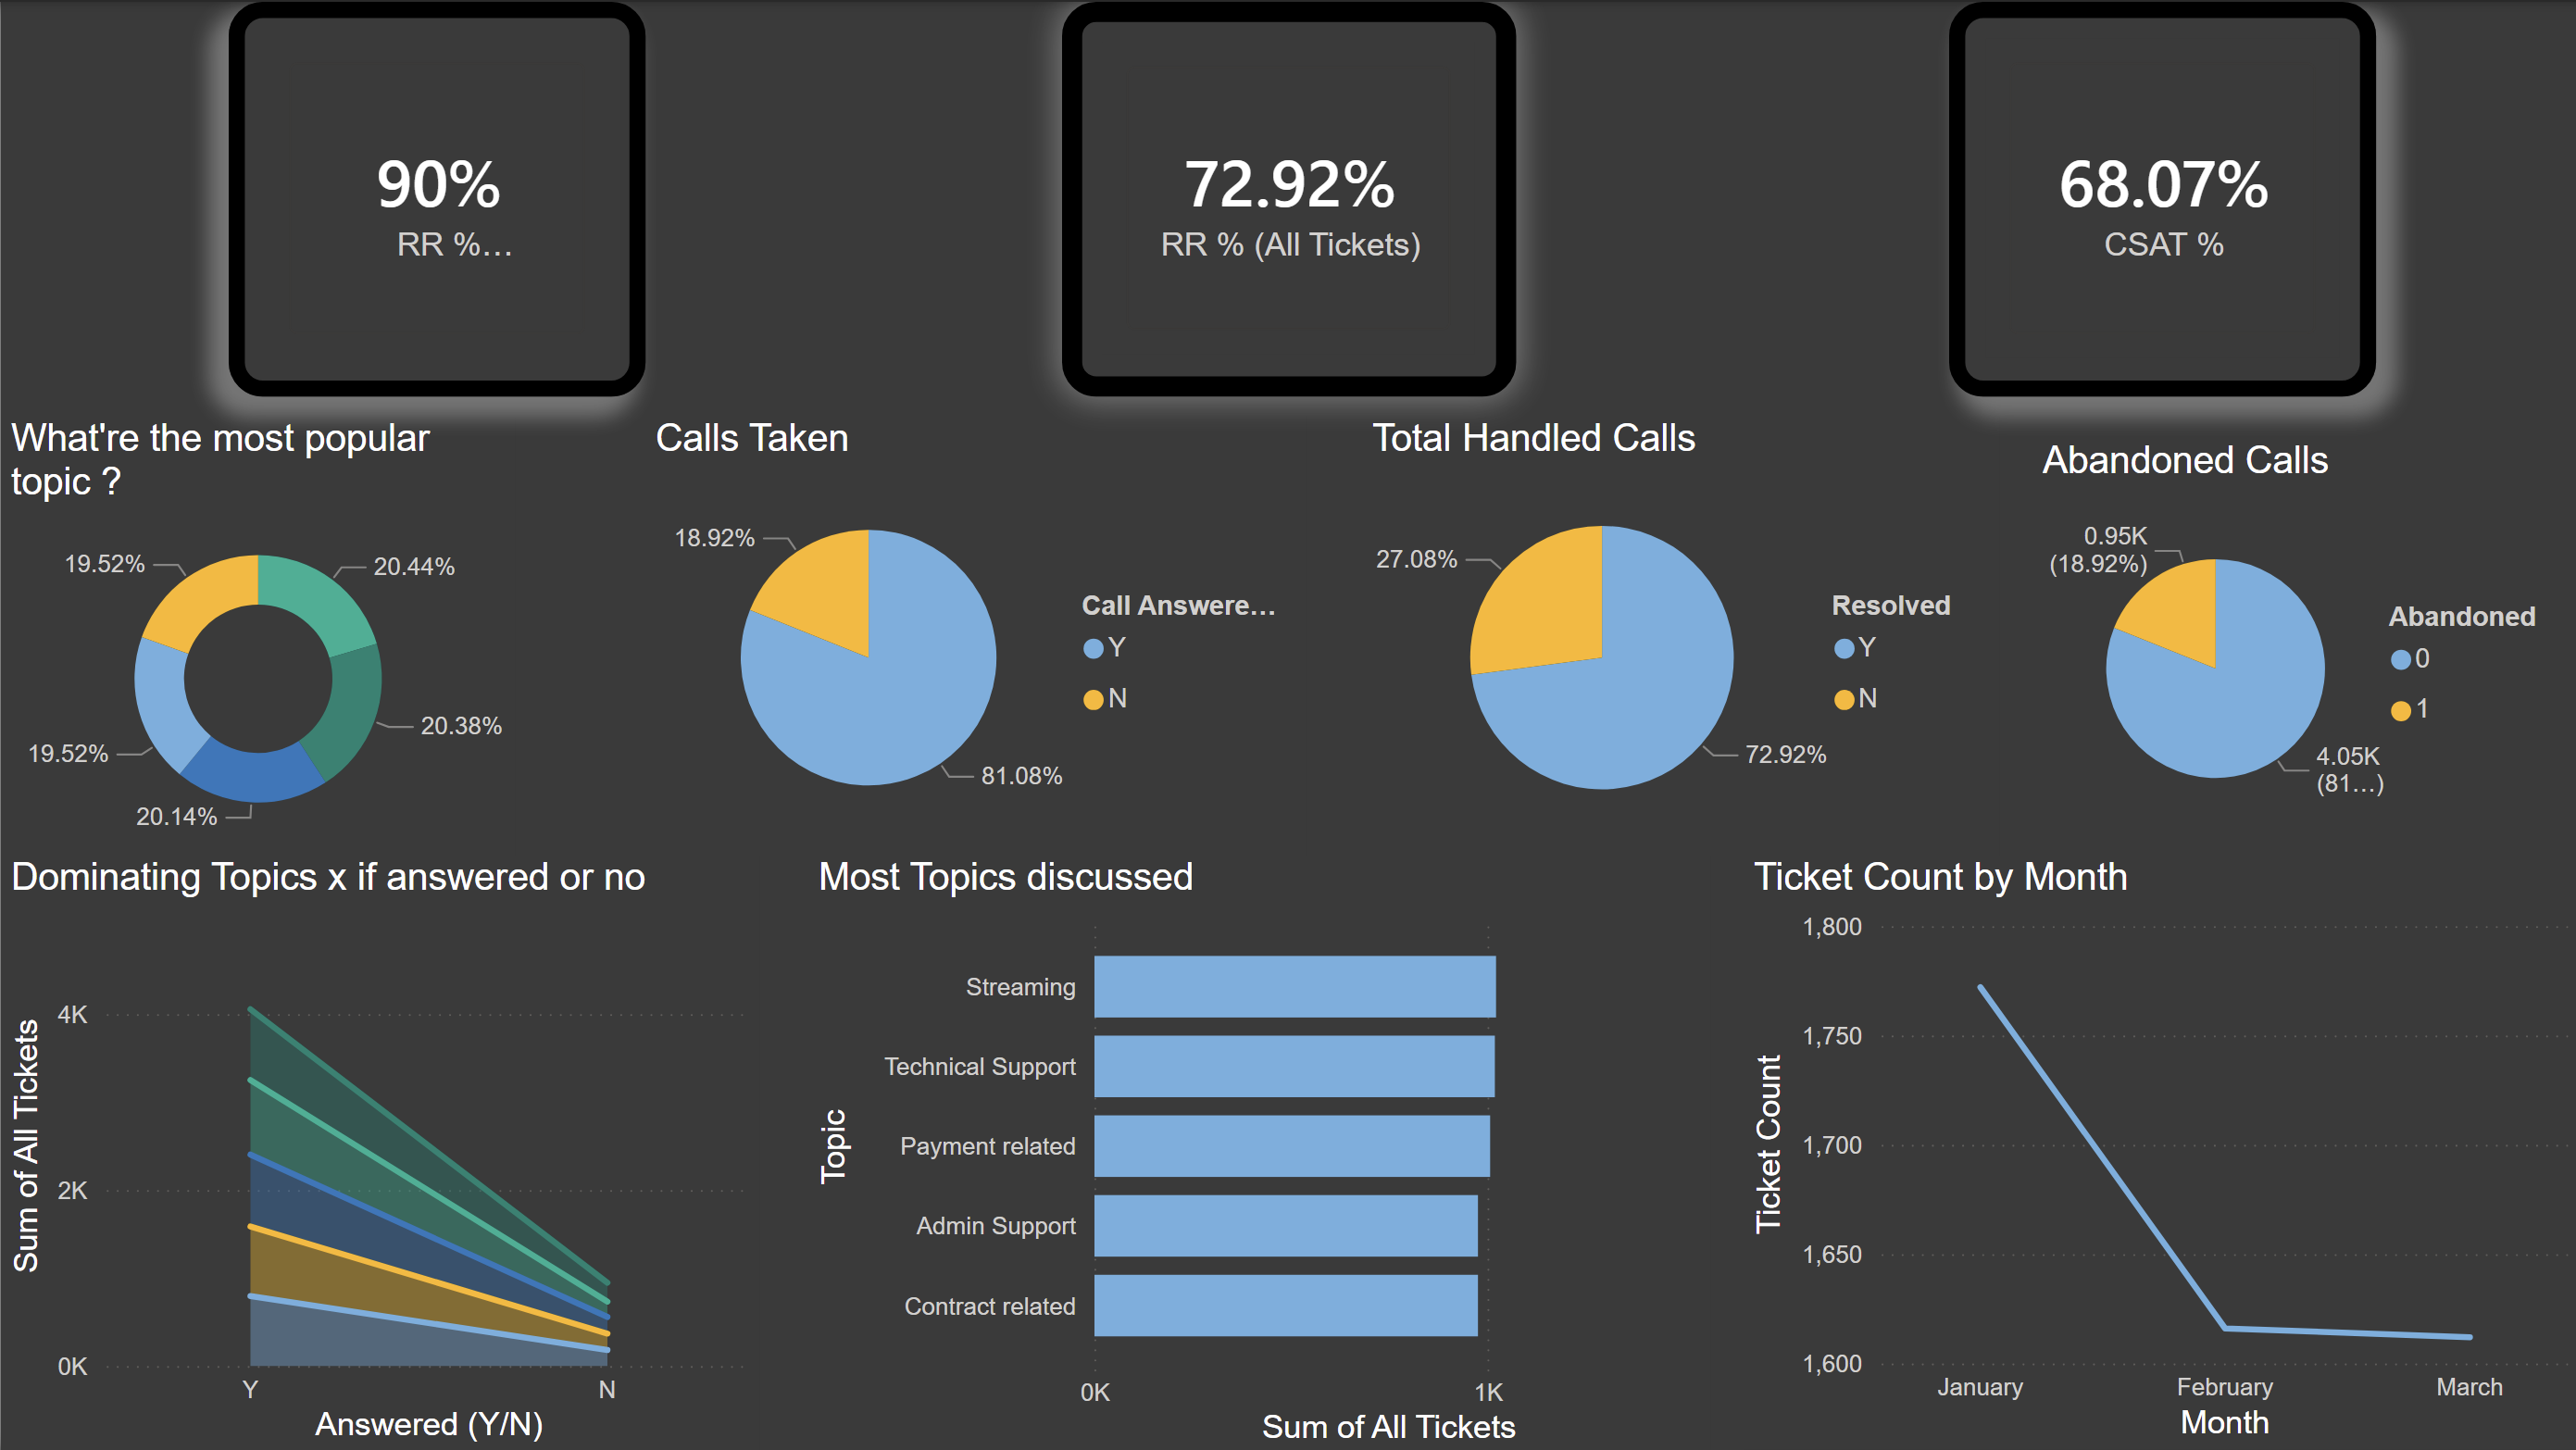

The dashboard page shown, as its layout file describes it:
{"tool":"powerbi","page":{"name":"Page 1","canvas":[1280,720],"ordinal":0},"visuals":[{"type":"pieChart","title":"Calls Taken","fields":{"Y":["CountNonNull(Raw.Answered (Y/N))"],"Category":["Raw.Answered (Y/N)"]},"box":[320,205.9,328.7,218.3],"z":0},{"type":"pieChart","title":"Total Handled Calls","fields":{"Category":["Raw.Resolved"],"Y":["CountNonNull(Raw.Resolved)"]},"box":[676,205.9,316.3,218.3],"z":1000},{"type":"donutChart","title":"What''re the most popular topic ?","fields":{"Y":["CountNonNull(Raw.Topic)"],"Category":["Raw.Topic"]},"box":[0,205.9,255.5,218.3],"z":3000},{"type":"lineChart","fields":{"Category":["Sheet1 (2).Date.Variation.Date Hierarchy.Year","Sheet1 (2).Date.Variation.Date Hierarchy.Quarter","Sheet1 (2).Date.Variation.Date Hierarchy.Month","Sheet1 (2).Date.Variation.Date Hierarchy.Day"],"Y":["Sum(Sheet1 (2).Ticket Count)"]},"box":[865.7,424.2,414.3,295.2],"z":4000},{"type":"cardVisual","fields":{"Data":["Raw.CSAT %"]},"box":[967.4,0,212.1,196],"z":5000},{"type":"stackedAreaChart","title":"Dominating Topics x if answered or no","fields":{"Y":["Sum(Raw.All Tickets)"],"Series":["Raw.Topic"],"Category":["Raw.Answered (Y/N)"]},"box":[0,424.2,377.1,296.4],"z":5001},{"type":"cardVisual","fields":{"Data":["Raw.RR % (Answered)"]},"box":[112.9,0,207.1,196],"z":5002},{"type":"cardVisual","fields":{"Data":["Raw.RR % (All Tickets)"]},"box":[527.1,0,225.7,196],"z":5003},{"type":"pieChart","title":"Abandoned Calls","fields":{"Y":["Sum(Raw.All Tickets)"],"Category":["Raw.Abandoned"]},"box":[1008.4,217.1,272.9,207.1],"z":5004},{"type":"barChart","title":"Most Topics discussed","fields":{"Category":["Raw.Topic"],"Y":["Sum(Raw.All Tickets)"]},"box":[400.6,424.2,447.8,297.7],"z":5005}]}

Visuals, with their boxes in screenshot pixels (x1, y1, x2, y2), scaled from the page's 1280x720 canvas onto the 2576x1450 screenshot:
"Calls Taken" pieChart: pyautogui.locateOnScreen(644, 415, 1306, 855)
"Total Handled Calls" pieChart: pyautogui.locateOnScreen(1360, 415, 1997, 855)
"What''re the most popular topic ?" donutChart: pyautogui.locateOnScreen(0, 415, 514, 855)
lineChart - Sheet1 (2).Date.Variation.Date Hierarchy.Year x Sheet1 (2).Date.Variation.Date Hierarchy.Quarter: pyautogui.locateOnScreen(1743, 855, 2575, 1449)
cardVisual - Raw.CSAT %: pyautogui.locateOnScreen(1947, 0, 2374, 394)
"Dominating Topics x if answered or no" stackedAreaChart: pyautogui.locateOnScreen(0, 855, 759, 1449)
cardVisual - Raw.RR % (Answered): pyautogui.locateOnScreen(227, 0, 644, 394)
cardVisual - Raw.RR % (All Tickets): pyautogui.locateOnScreen(1061, 0, 1515, 394)
"Abandoned Calls" pieChart: pyautogui.locateOnScreen(2030, 437, 2575, 855)
"Most Topics discussed" barChart: pyautogui.locateOnScreen(807, 855, 1707, 1449)
